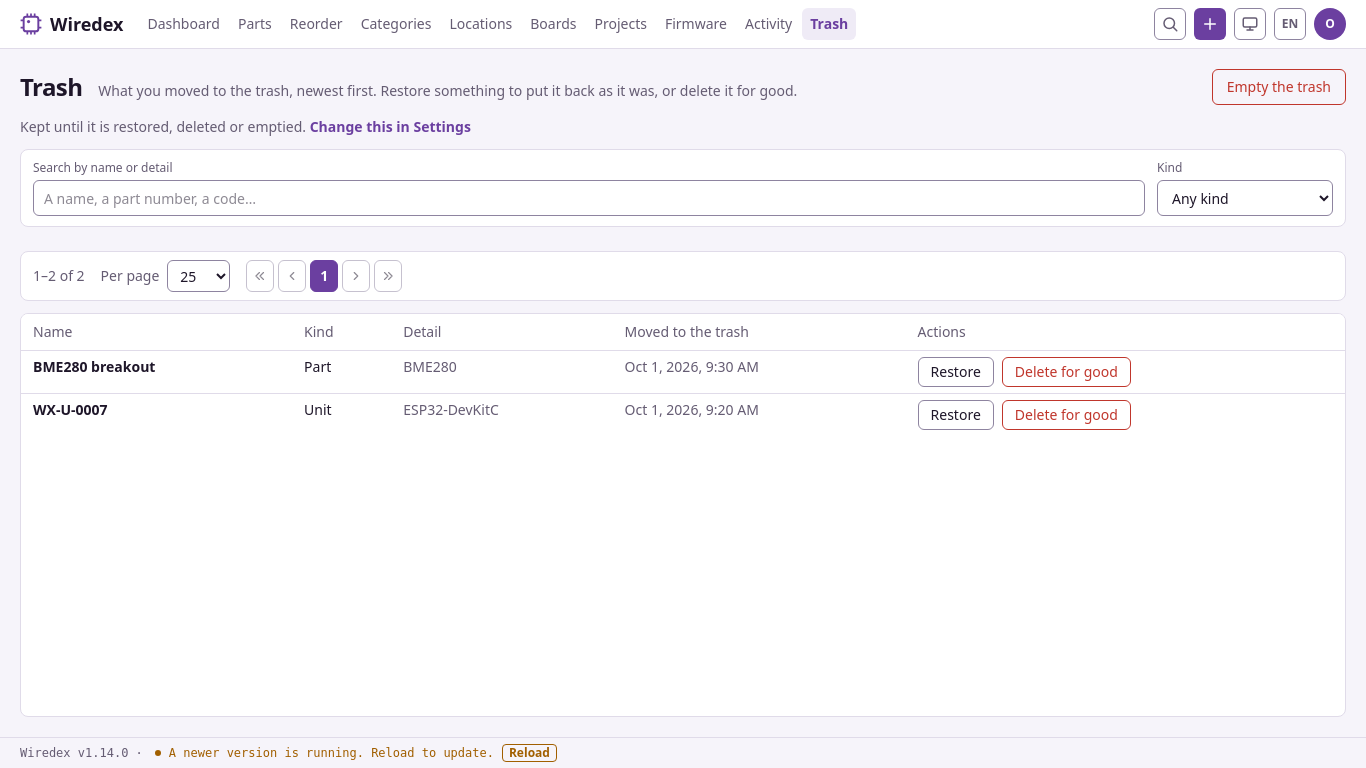
Test: TrashPage › asks in the row before deleting for good, and keeps the record on cancel
Click the button with aria-label "Delete WX-U-0007 for good".
click(1066, 415)  # box [1002,400,1131,430]
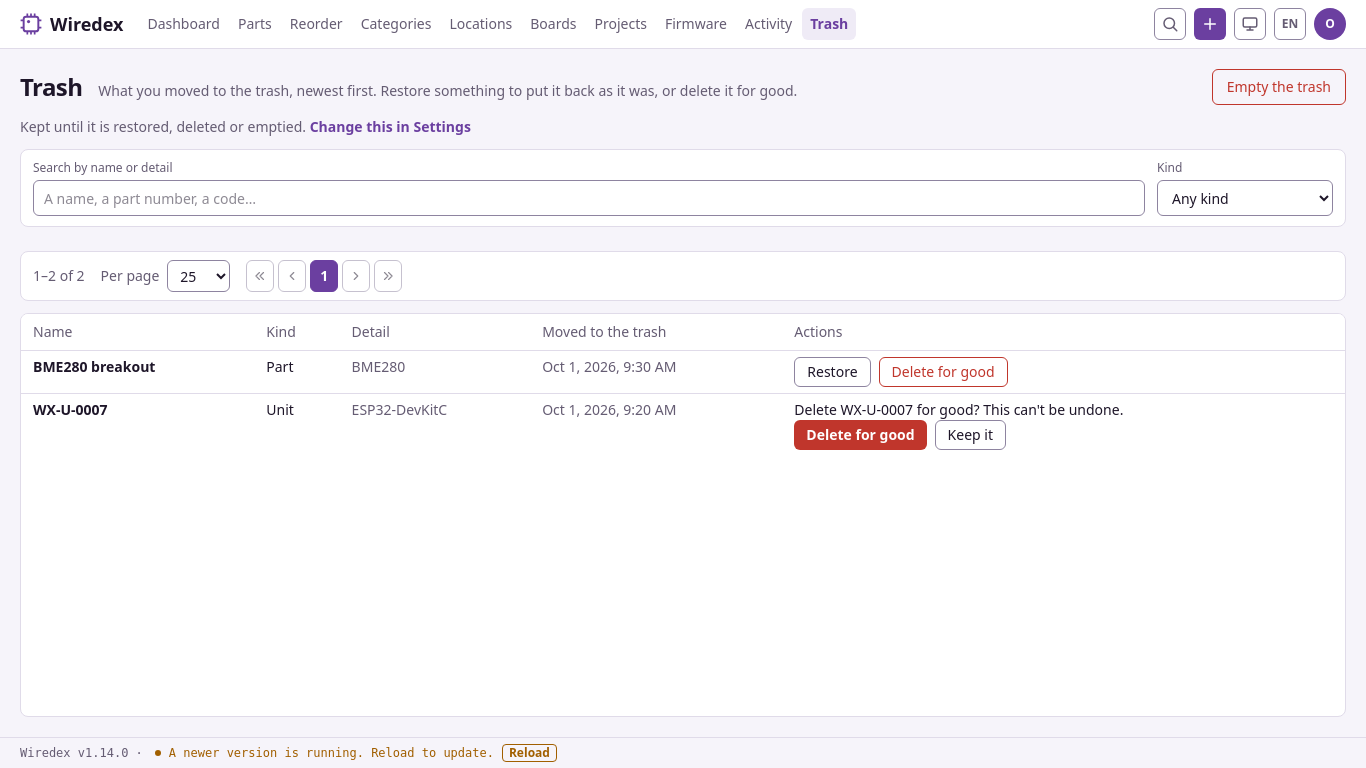
Click the button "Keep it".
click(970, 435)  # box [935,420,1006,450]
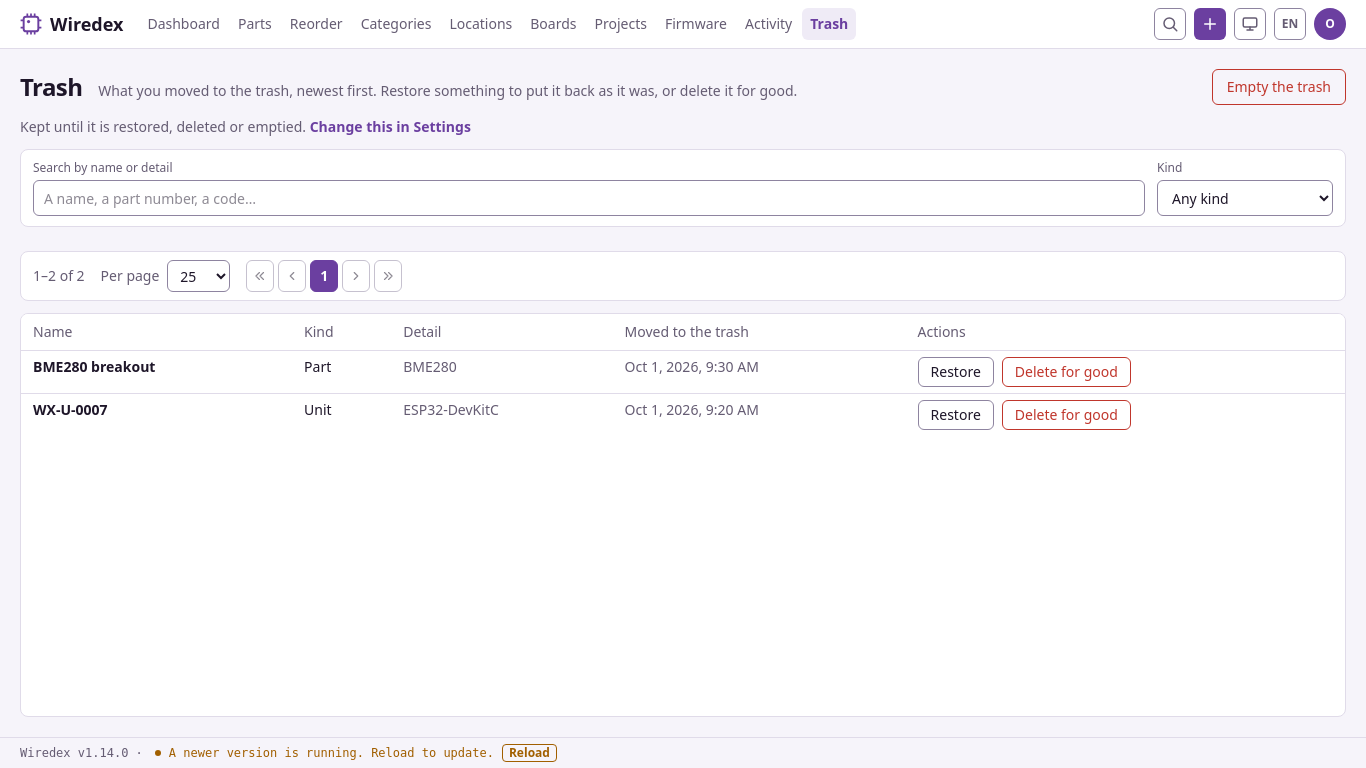
Result: the button with aria-label "Delete WX-U-0007 for good" is shown at [1002,400,1131,430]
